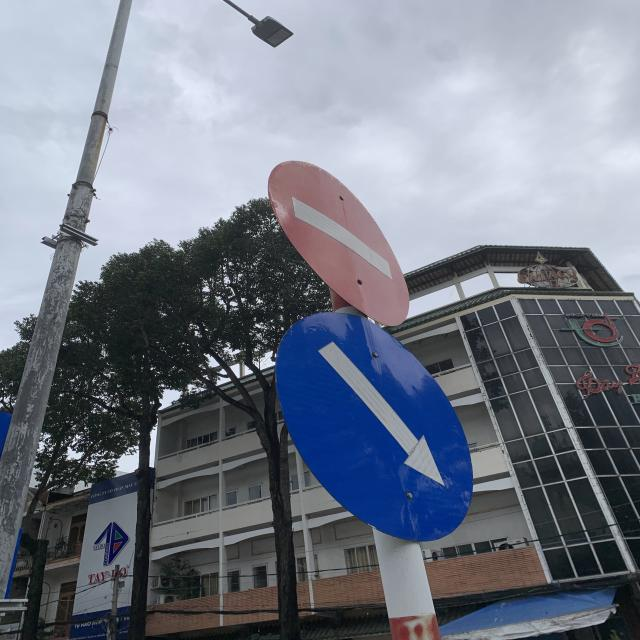Cam_Di_Nguoc_Chieu: (268, 156, 440, 324)
Chi_Huong_Di_Phai: (281, 308, 484, 542)
